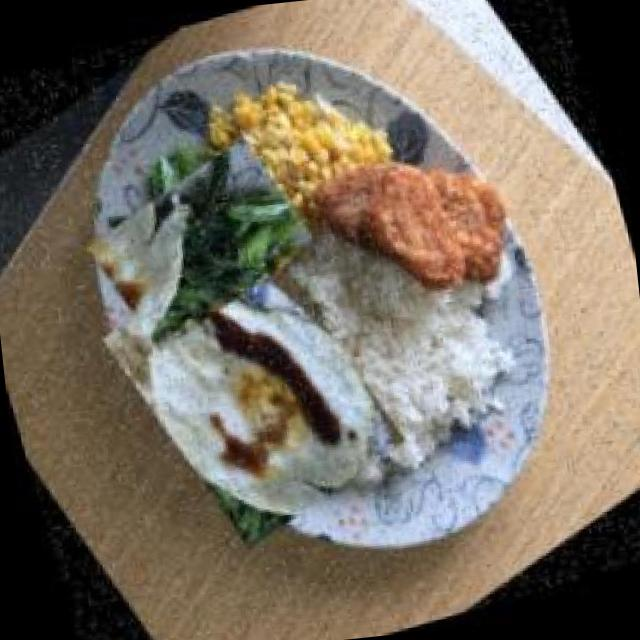fried_eggs: (80, 198, 430, 578)
rice: (288, 206, 528, 492)
triangle_hash_brown: (288, 85, 556, 362)
water_spinach: (72, 115, 330, 374)
